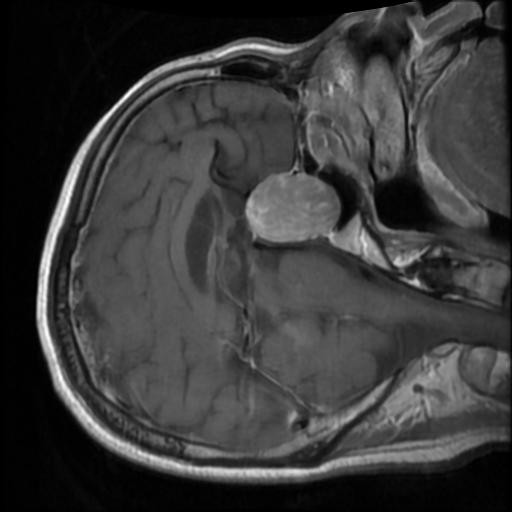pituitary tumour: (244, 170, 340, 242)
